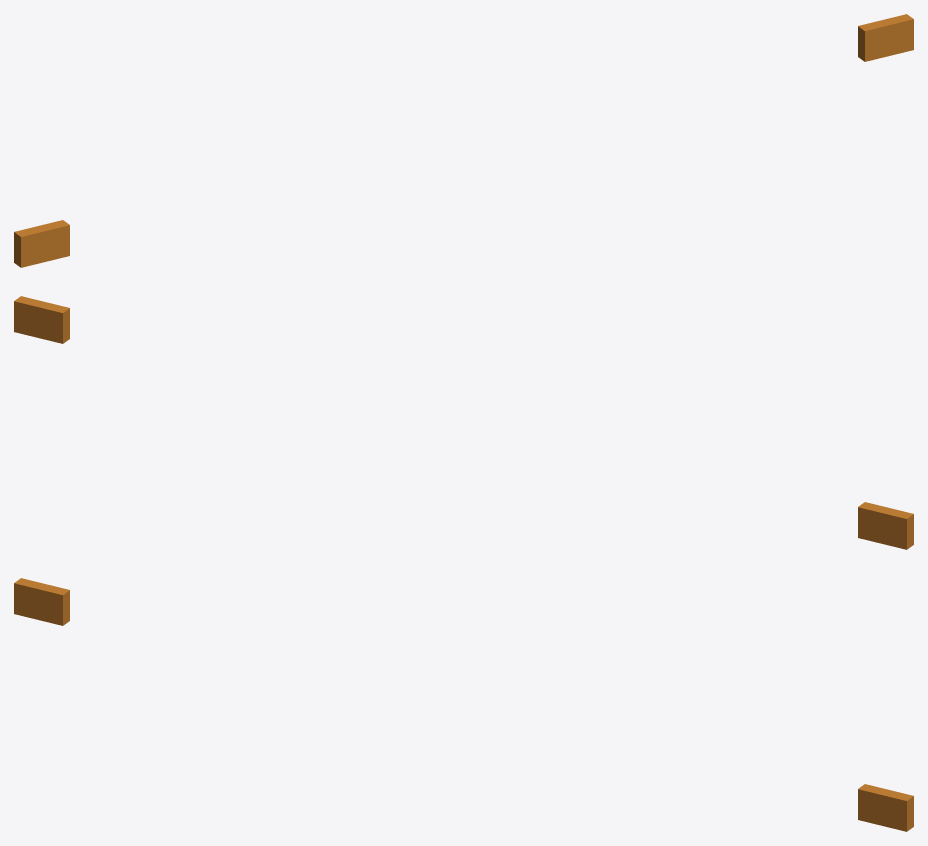
The model's file is vintage-windup-camper--amber-lens.glb.
The picture shows the model from 3 angles, top to bottom: view 1: azimuth 30°, elevation 25°; view 2: azimuth 150°, elevation 25°; view 3: azimuth 330°, elevation 25°; orthographic projection.
Visible parts, largest first — view 1: vintage-windup-camper; view 2: vintage-windup-camper; view 3: vintage-windup-camper.
Boxes of the visible parts, bbox=[...] form: vintage-windup-camper: bbox=[14, 14, 913, 267]; vintage-windup-camper: bbox=[14, 296, 913, 549]; vintage-windup-camper: bbox=[14, 578, 913, 831].
Bounding box in the file's own units: 1.82 × 0.06 × 0.025.
